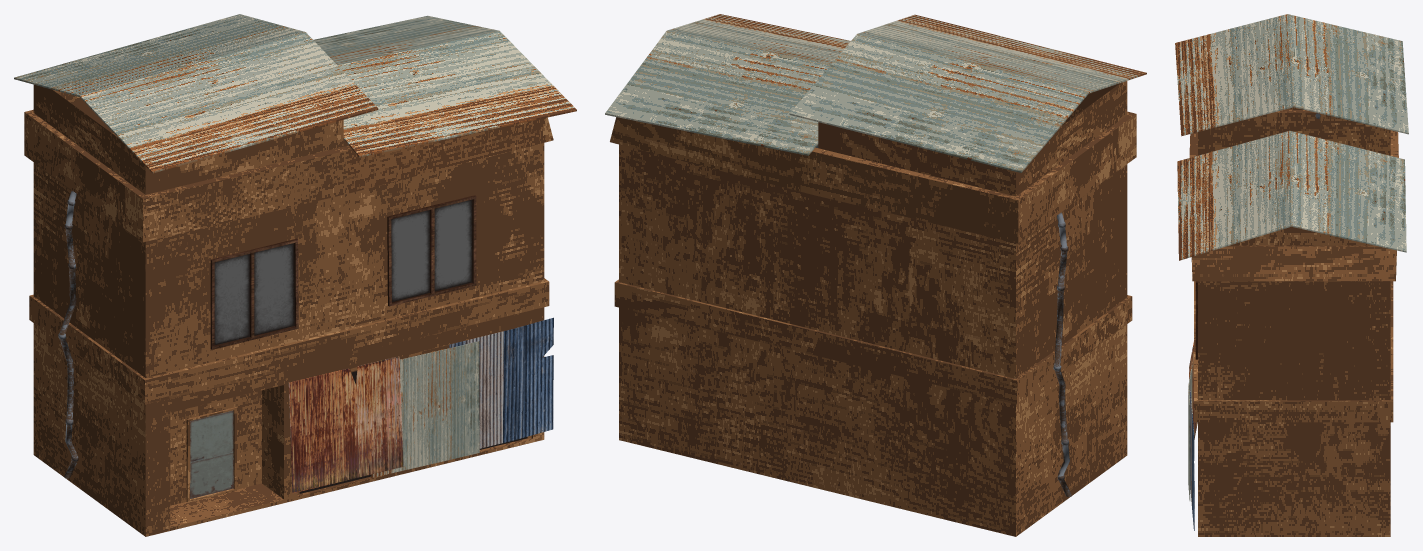
File: Tall house1.glb
3 views of the same model, side by side, from view 1: azimuth 30°, elevation 25°; view 2: azimuth 150°, elevation 25°; view 3: azimuth 270°, elevation 25° (orthographic). The views are drawn at different scales.
Parts seen in each view (by area): view 1: House base, Plane.005, Plane.003, Plane.001, Plane.002, Plane.004, Pipe.001; view 2: House base, Plane.005, Plane.003, Pipe.001; view 3: House base, Plane.003, Plane.005, Plane.004, Plane.002.
Boxes of the visible parts, x1,y1,x2,y2 form: House base: [24, 84, 553, 536]; Plane.005: [14, 14, 378, 173]; Plane.003: [314, 15, 576, 157]; Plane.001: [288, 356, 403, 493]; Plane.002: [371, 341, 479, 477]; Plane.004: [449, 317, 553, 448]; Pipe.001: [58, 190, 78, 478]; House base: [610, 81, 1136, 536]; Plane.005: [789, 14, 1146, 172]; Plane.003: [605, 14, 850, 155]; Pipe.001: [1053, 212, 1071, 496]; House base: [1189, 107, 1398, 536]; Plane.003: [1177, 130, 1406, 260]; Plane.005: [1175, 14, 1408, 136]; Plane.004: [1190, 390, 1194, 530]; Plane.002: [1188, 361, 1193, 500].
Bounding box in the file's own units: 28.48 × 25.81 × 15.44.
Materials: 8 (8 with a texture image).
